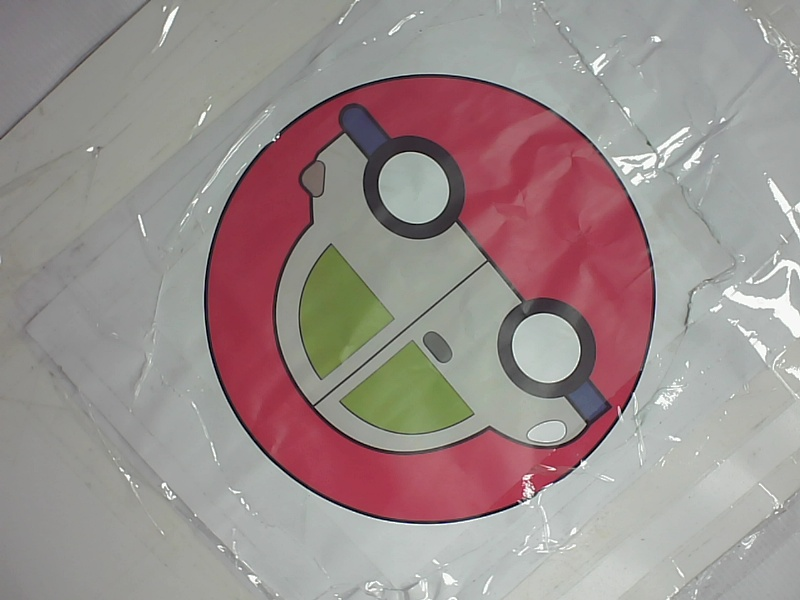areaC: (189, 60, 663, 529)
